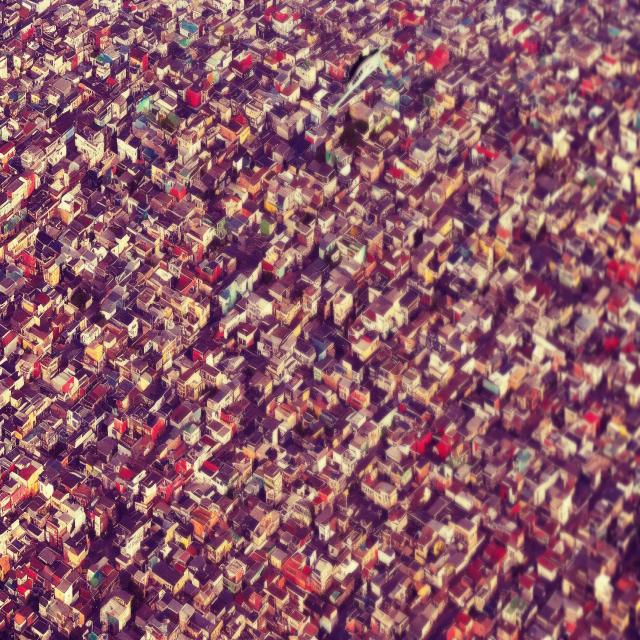airplane: (327, 37, 391, 117)
